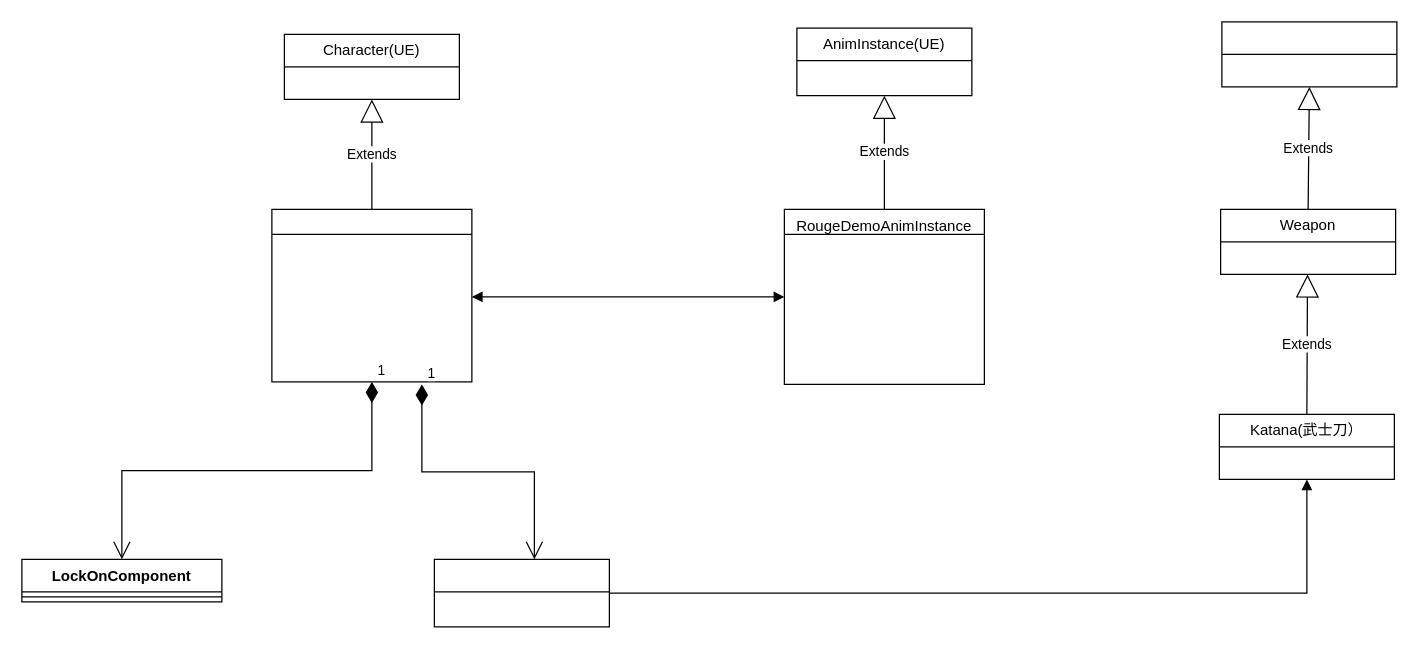
Some shapes in this 1419 by 649 pixel diagram are drawn without their labels. Here are the shapes that lost their labels. From the top down, the centre of each, then its label:
point (1309, 54): Actor(UE)
point (371, 295): RougeDemoCharacter
point (521, 592): CombatComponent
